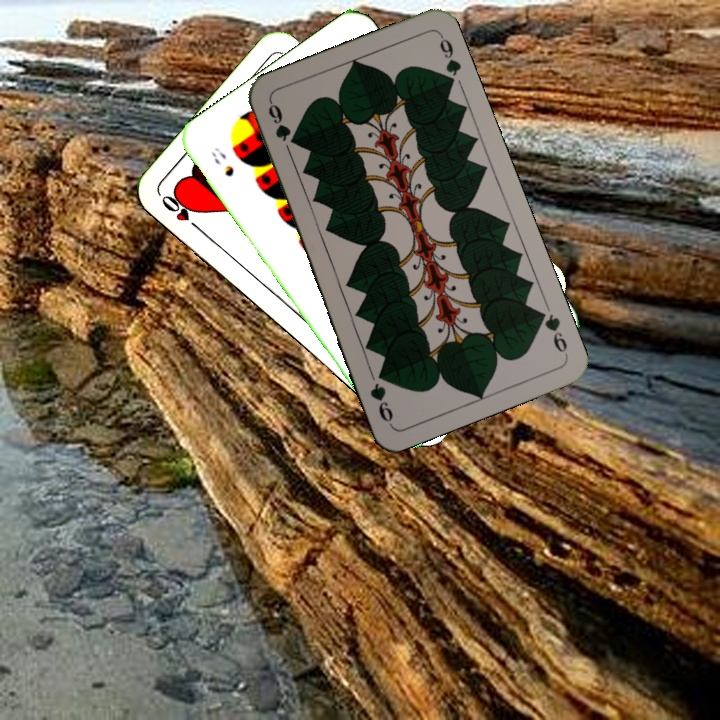G9: (532, 305, 570, 358), (264, 98, 293, 155)
HO: (157, 189, 205, 235)
S8: (207, 143, 237, 180)
